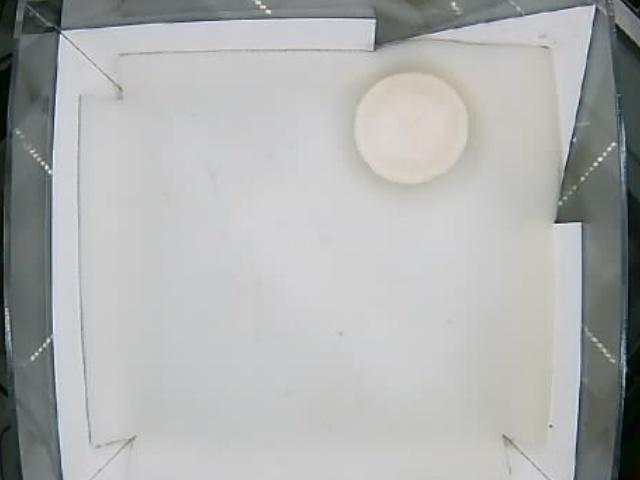Mooli: (357, 73, 473, 186)
